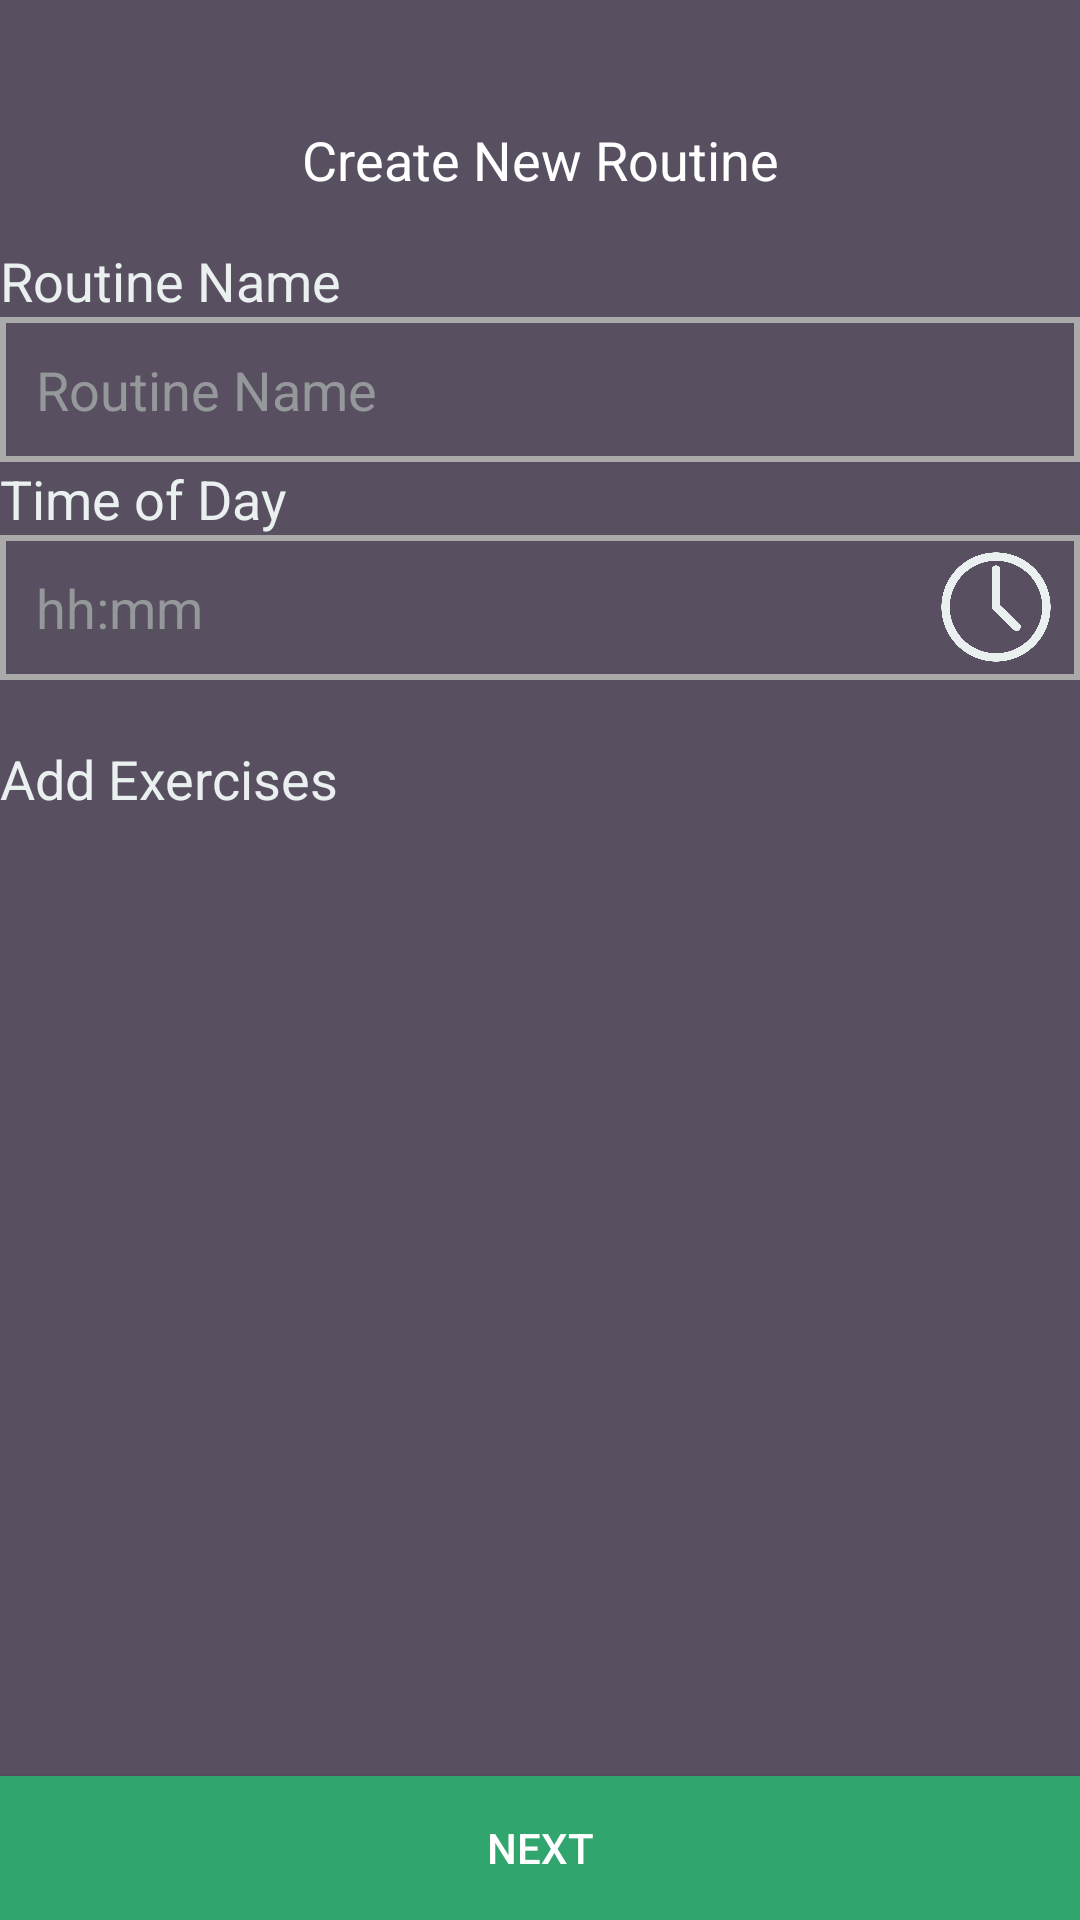

Screen size 1080px×1920px. Icon name, then its box in pixels as (x1, y1, x2, y2):
clock: (941, 552, 1051, 662)
